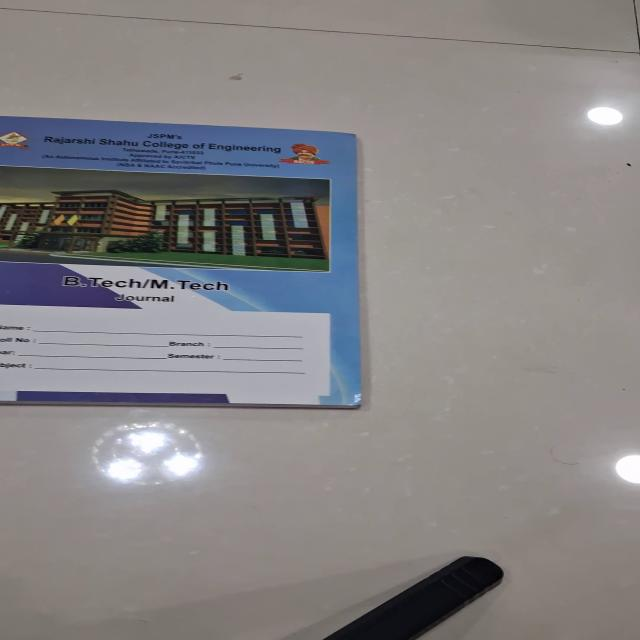paper: (1, 115, 362, 408)
